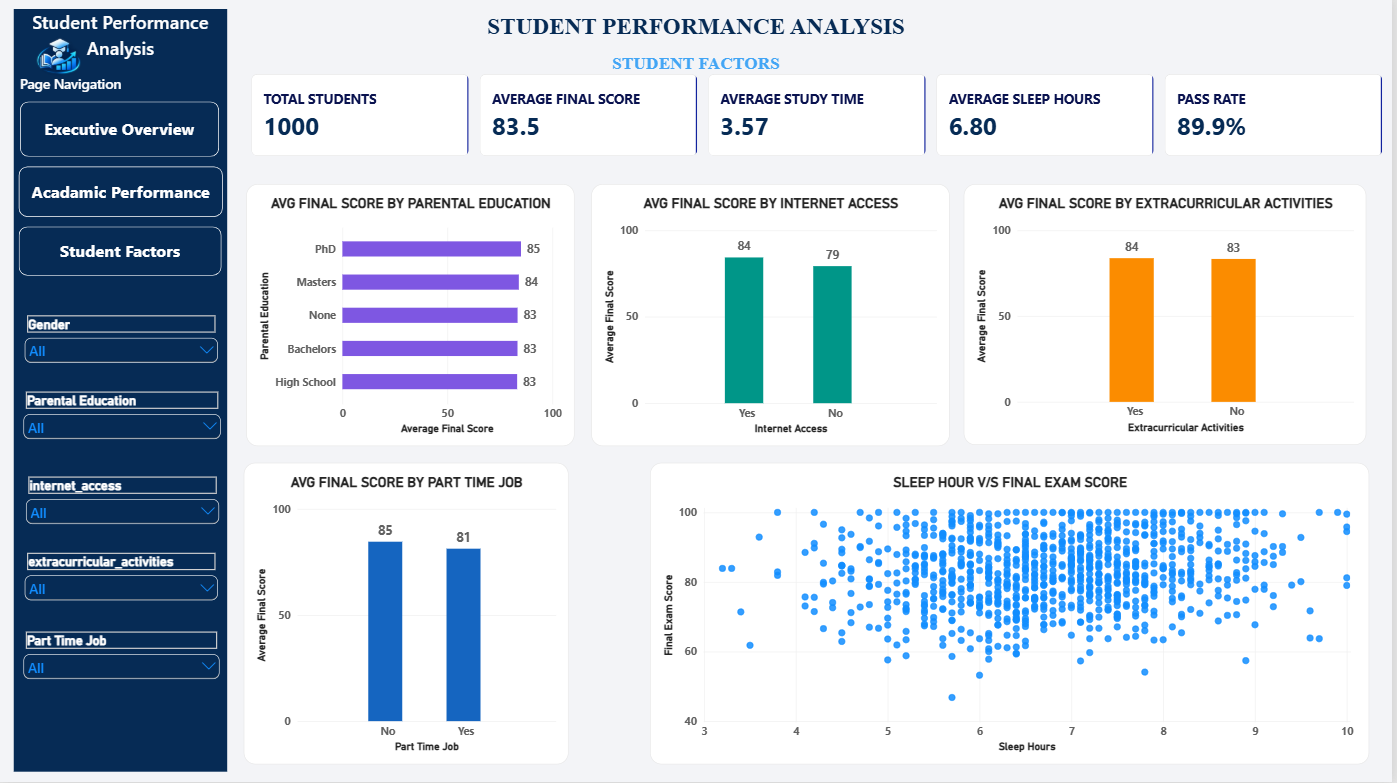

Layout of this report page (visuals, bound fields, positions):
{"tool":"powerbi","page":{"name":"Student Factors","canvas":[1920,1080],"ordinal":2},"visuals":[{"type":"textbox","box":[0,0,1920.4,123.5],"z":0},{"type":"cardVisual","fields":{"Data":["student_performance_dataset.Total Students","student_performance_dataset.Average Final Score","student_performance_dataset.Average Study Time","student_performance_dataset.average sleep hours","student_performance_dataset.Pass Rate"]},"box":[345.8,102.9,1560.2,113.2],"z":1000},{"type":"textbox","box":[0,255,329,385],"z":2000},{"type":"textbox","title":"Student Performance","box":[18.5,14.4,294.3,1051.8],"z":3000},{"type":"textbox","title":"Page Navigation","box":[27.1,103.4,313.6,37.3],"z":4000},{"type":"slicer","fields":{"Values":["student_performance_dataset.gender"]},"box":[29.1,436.4,275.8,72],"z":5000},{"type":"slicer","fields":{"Values":["student_performance_dataset.parental_education"]},"box":[27.3,541.8,282,74.1],"z":6000},{"type":"slicer","fields":{"Values":["student_performance_dataset.internet_access"]},"box":[30.9,658.2,275.8,82.3],"z":7000},{"type":"slicer","fields":{"Values":["student_performance_dataset.extracurricular_activities"]},"box":[29.1,763.6,276.4,87.3],"z":8000},{"type":"slicer","fields":{"Values":["student_performance_dataset.part_time_job"]},"box":[27.3,872.7,280,92.7],"z":9000},{"type":"actionButton","box":[27.1,140.7,274.6,76.3],"z":10000},{"type":"actionButton","box":[25.4,230.5,281.4,69.5],"z":11000},{"type":"actionButton","box":[25.4,313.6,279.7,67.8],"z":12000},{"type":"scatterChart","title":"SLEEP HOUR V/S FINAL EXAM SCORE","fields":{"X":["student_performance_dataset.sleep_hours"],"Y":["student_performance_dataset.final_exam_score"]},"box":[896,640,992,416],"z":13000},{"type":"clusteredBarChart","title":"AVG FINAL SCORE BY PARENTAL EDUCATION","fields":{"Category":["student_performance_dataset.parental_education"],"Y":["student_performance_dataset.Average Final Score"]},"box":[340.2,255.2,452.4,361.9],"z":14000},{"type":"clusteredColumnChart","title":"AVG FINAL SCORE BY INTERNET ACCESS","fields":{"Category":["student_performance_dataset.internet_access"],"Y":["student_performance_dataset.Average Final Score"]},"box":[816,256,494,361.9],"z":15000},{"type":"clusteredColumnChart","title":"AVG FINAL SCORE BY EXTRACURRICULAR ACTIVITIES","fields":{"Category":["student_performance_dataset.extracurricular_activities"],"Y":["student_performance_dataset.Average Final Score"]},"box":[1330.1,255.2,555.6,360.1],"z":16000},{"type":"clusteredColumnChart","title":"AVG FINAL SCORE BY PART TIME JOB","fields":{"Category":["student_performance_dataset.part_time_job"],"Y":["student_performance_dataset.Average Final Score"]},"box":[336,640,448,416],"z":17000},{"type":"image","box":[32,48,96,64],"z":19000}]}

Visuals, with their boxes on the page's 1920x1080 design canvas (x1, y1, x2, y2). These are canvas units, not pixel positions in the 1397x783 screenshot, which may show the page scaled, cropped or inside an application window:
textbox: Rect(0, 0, 1920, 124)
cardVisual - student_performance_dataset.Total Students x student_performance_dataset.Average Final Score: Rect(346, 103, 1906, 216)
textbox: Rect(0, 255, 329, 640)
"Student Performance" textbox: Rect(18, 14, 313, 1066)
"Page Navigation" textbox: Rect(27, 103, 341, 141)
slicer - student_performance_dataset.gender: Rect(29, 436, 305, 508)
slicer - student_performance_dataset.parental_education: Rect(27, 542, 309, 616)
slicer - student_performance_dataset.internet_access: Rect(31, 658, 307, 740)
slicer - student_performance_dataset.extracurricular_activities: Rect(29, 764, 306, 851)
slicer - student_performance_dataset.part_time_job: Rect(27, 873, 307, 965)
actionButton: Rect(27, 141, 302, 217)
actionButton: Rect(25, 230, 307, 300)
actionButton: Rect(25, 314, 305, 381)
"SLEEP HOUR V/S FINAL EXAM SCORE" scatterChart: Rect(896, 640, 1888, 1056)
"AVG FINAL SCORE BY PARENTAL EDUCATION" clusteredBarChart: Rect(340, 255, 793, 617)
"AVG FINAL SCORE BY INTERNET ACCESS" clusteredColumnChart: Rect(816, 256, 1310, 618)
"AVG FINAL SCORE BY EXTRACURRICULAR ACTIVITIES" clusteredColumnChart: Rect(1330, 255, 1886, 615)
"AVG FINAL SCORE BY PART TIME JOB" clusteredColumnChart: Rect(336, 640, 784, 1056)
image: Rect(32, 48, 128, 112)
